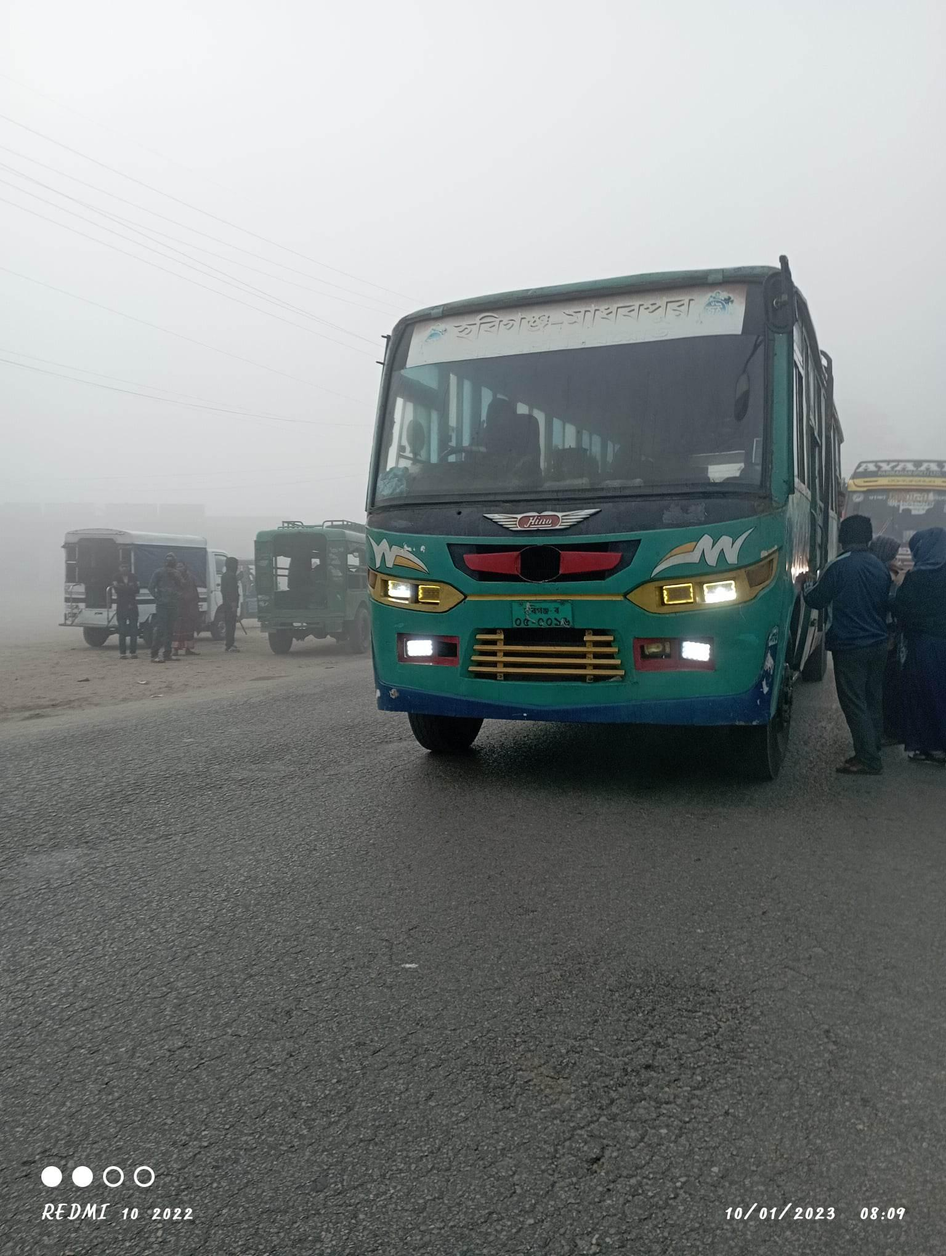Bus: (357, 239, 867, 822), (846, 438, 946, 600)
Car: (57, 512, 247, 653), (255, 506, 366, 682)
